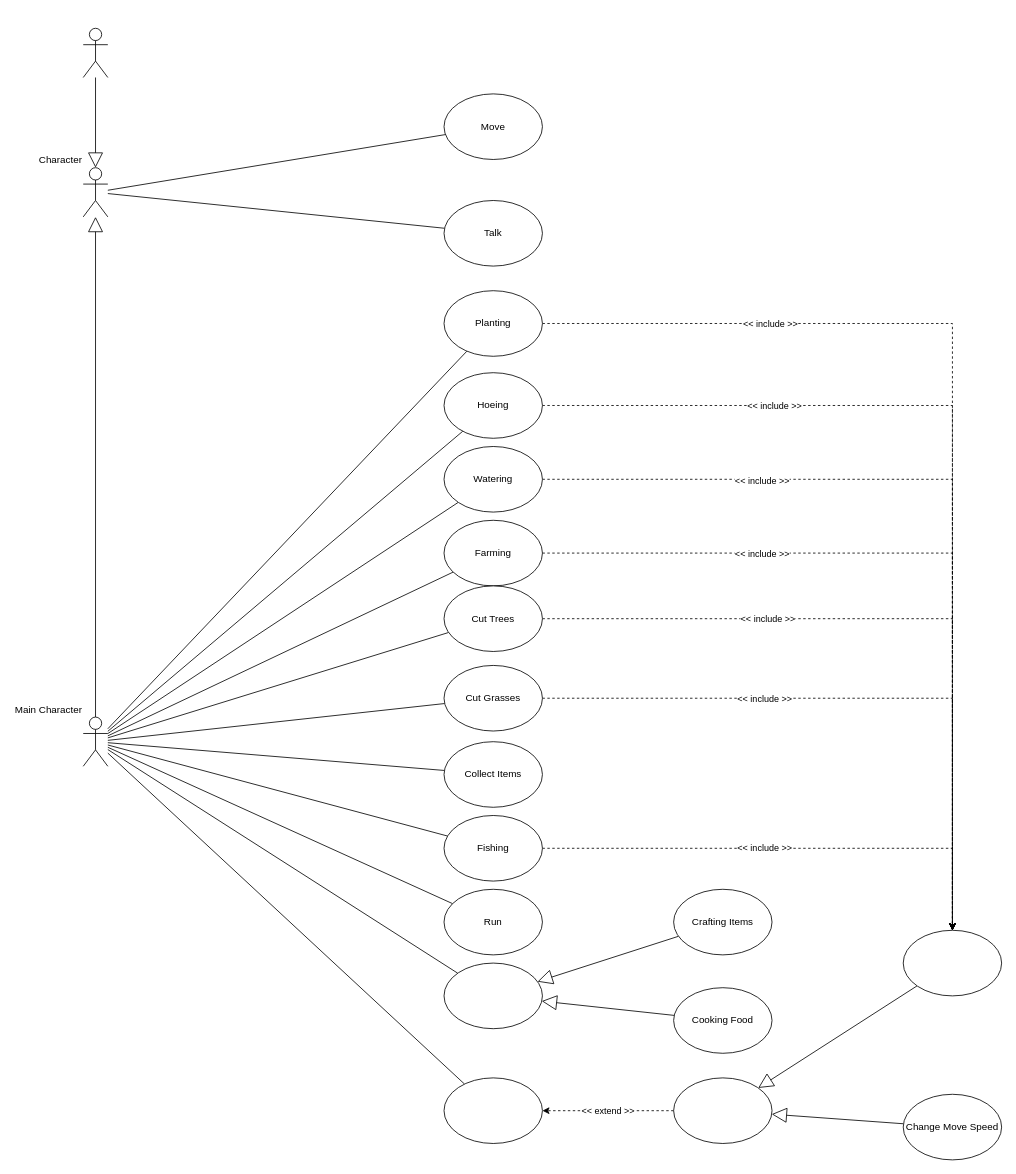
Image size: 1016x1174. Some labels were removed from this diagram. Here are the shapes that lost their labels. From the top down, the centre of each, then its label:
(95,52): NPC
(952,962): Change Stamina
(492,995): Crafting
(492,1110): Eat
(722,1110): Change Stats
